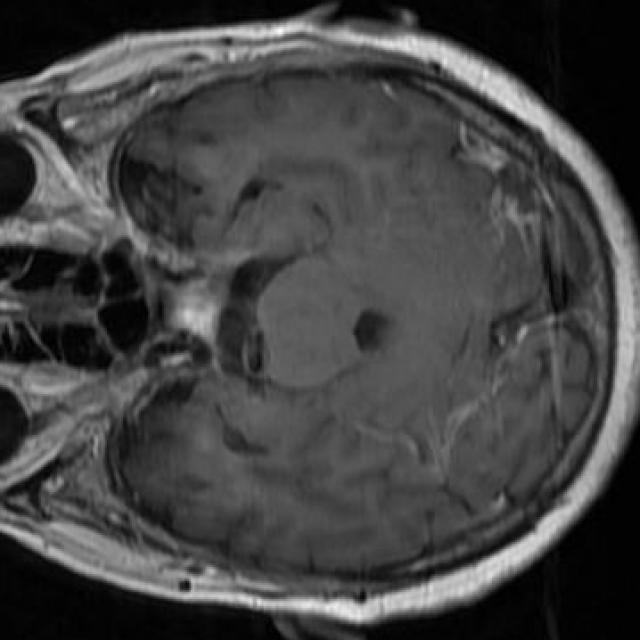pituitary: (171, 278, 221, 339)
